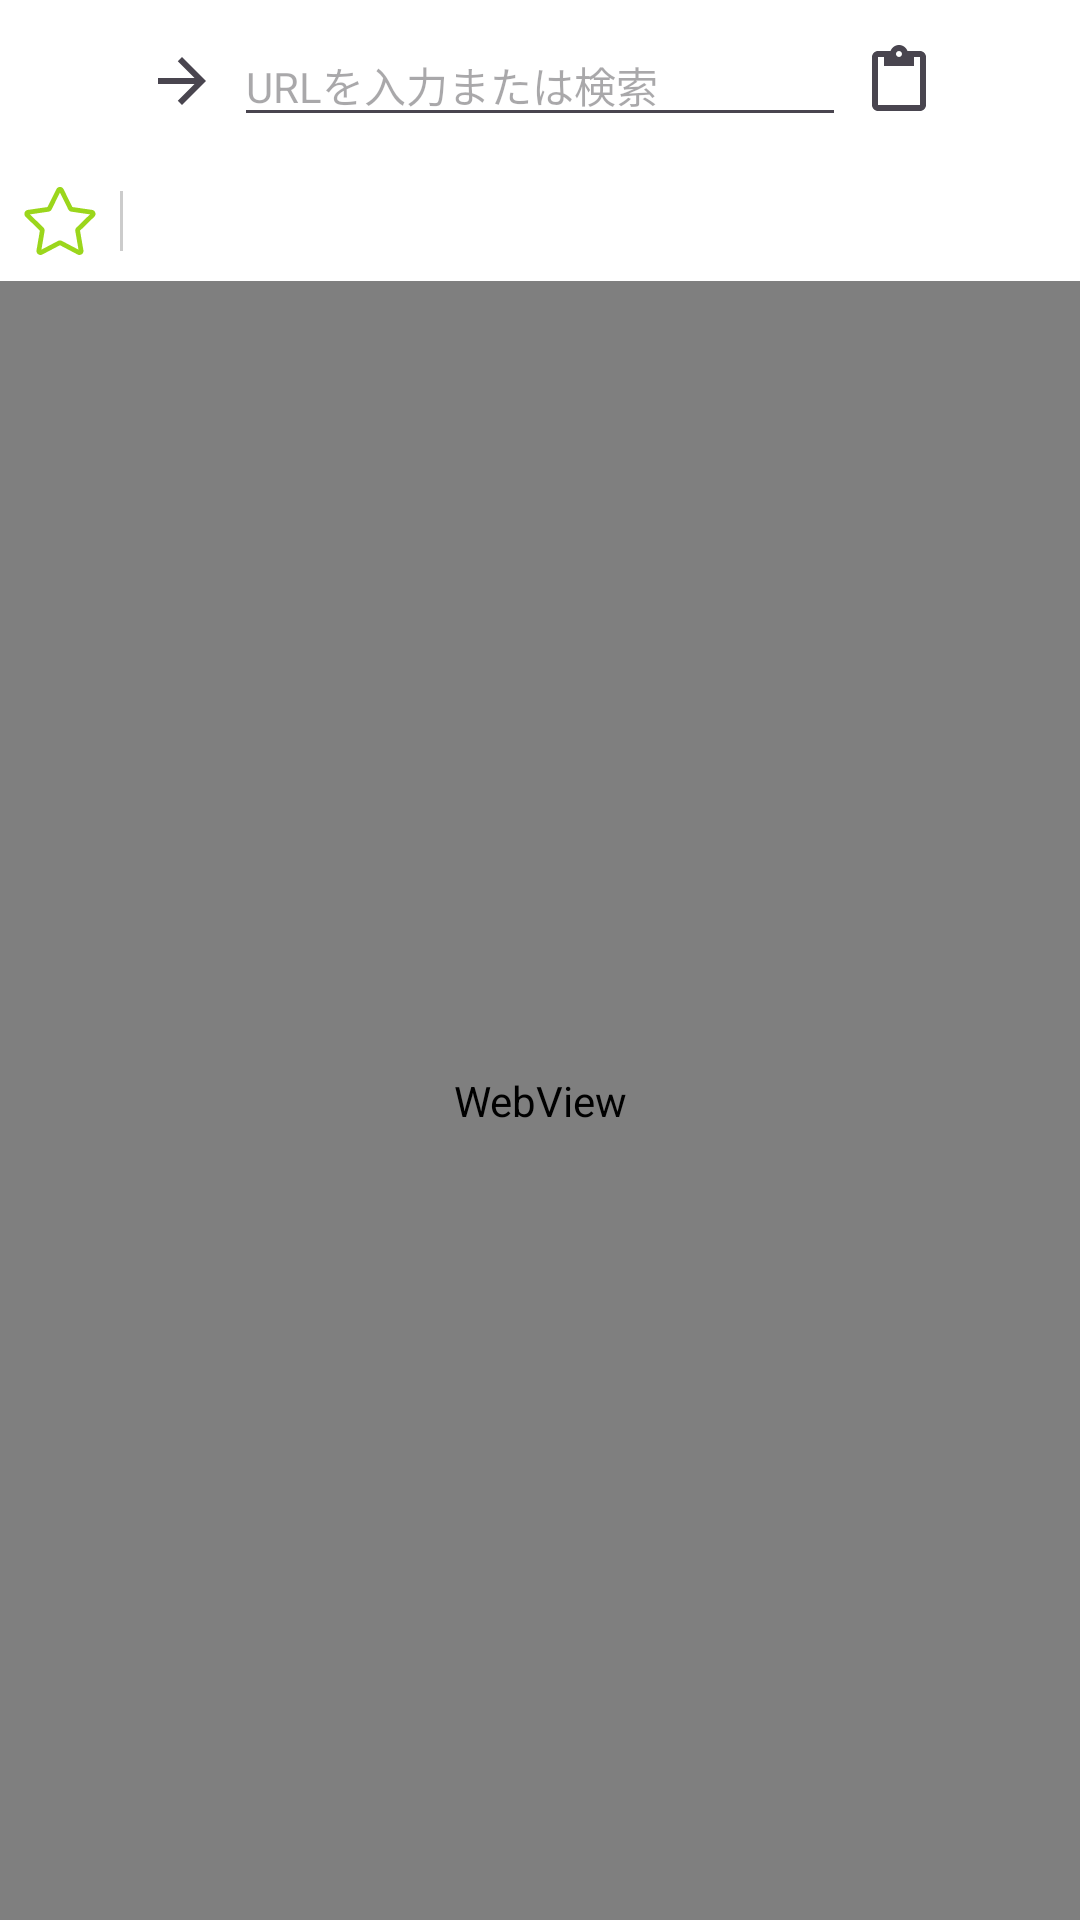

Point at icon controls on the screen. Image size 1080px x 1920px, points as [x,y].
Forward: [182,81]
Paste URL: [899,78]
お気に入りに追加: [60,221]
